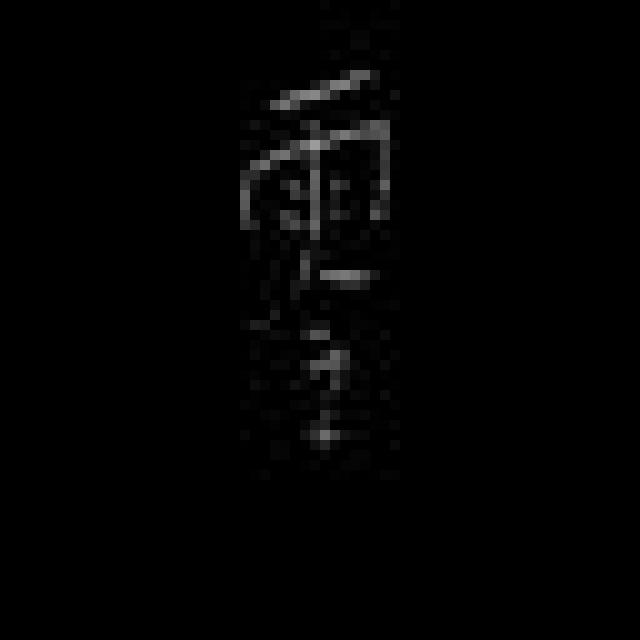0 -zero-: (228, 65, 404, 459)
